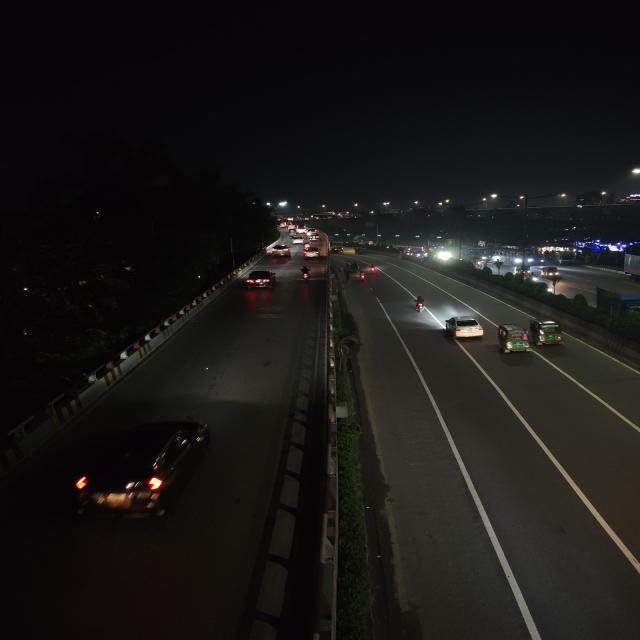bus: (508, 249, 539, 267)
car: (65, 413, 216, 527), (441, 314, 486, 342), (244, 269, 278, 290), (268, 243, 292, 258), (301, 246, 322, 259), (291, 236, 304, 246)
cng: (494, 322, 532, 356), (528, 315, 566, 349), (540, 265, 564, 281), (332, 245, 345, 254)
motorcycle: (410, 296, 430, 316), (296, 264, 312, 282), (365, 264, 379, 274)
truck: (554, 251, 576, 265)
